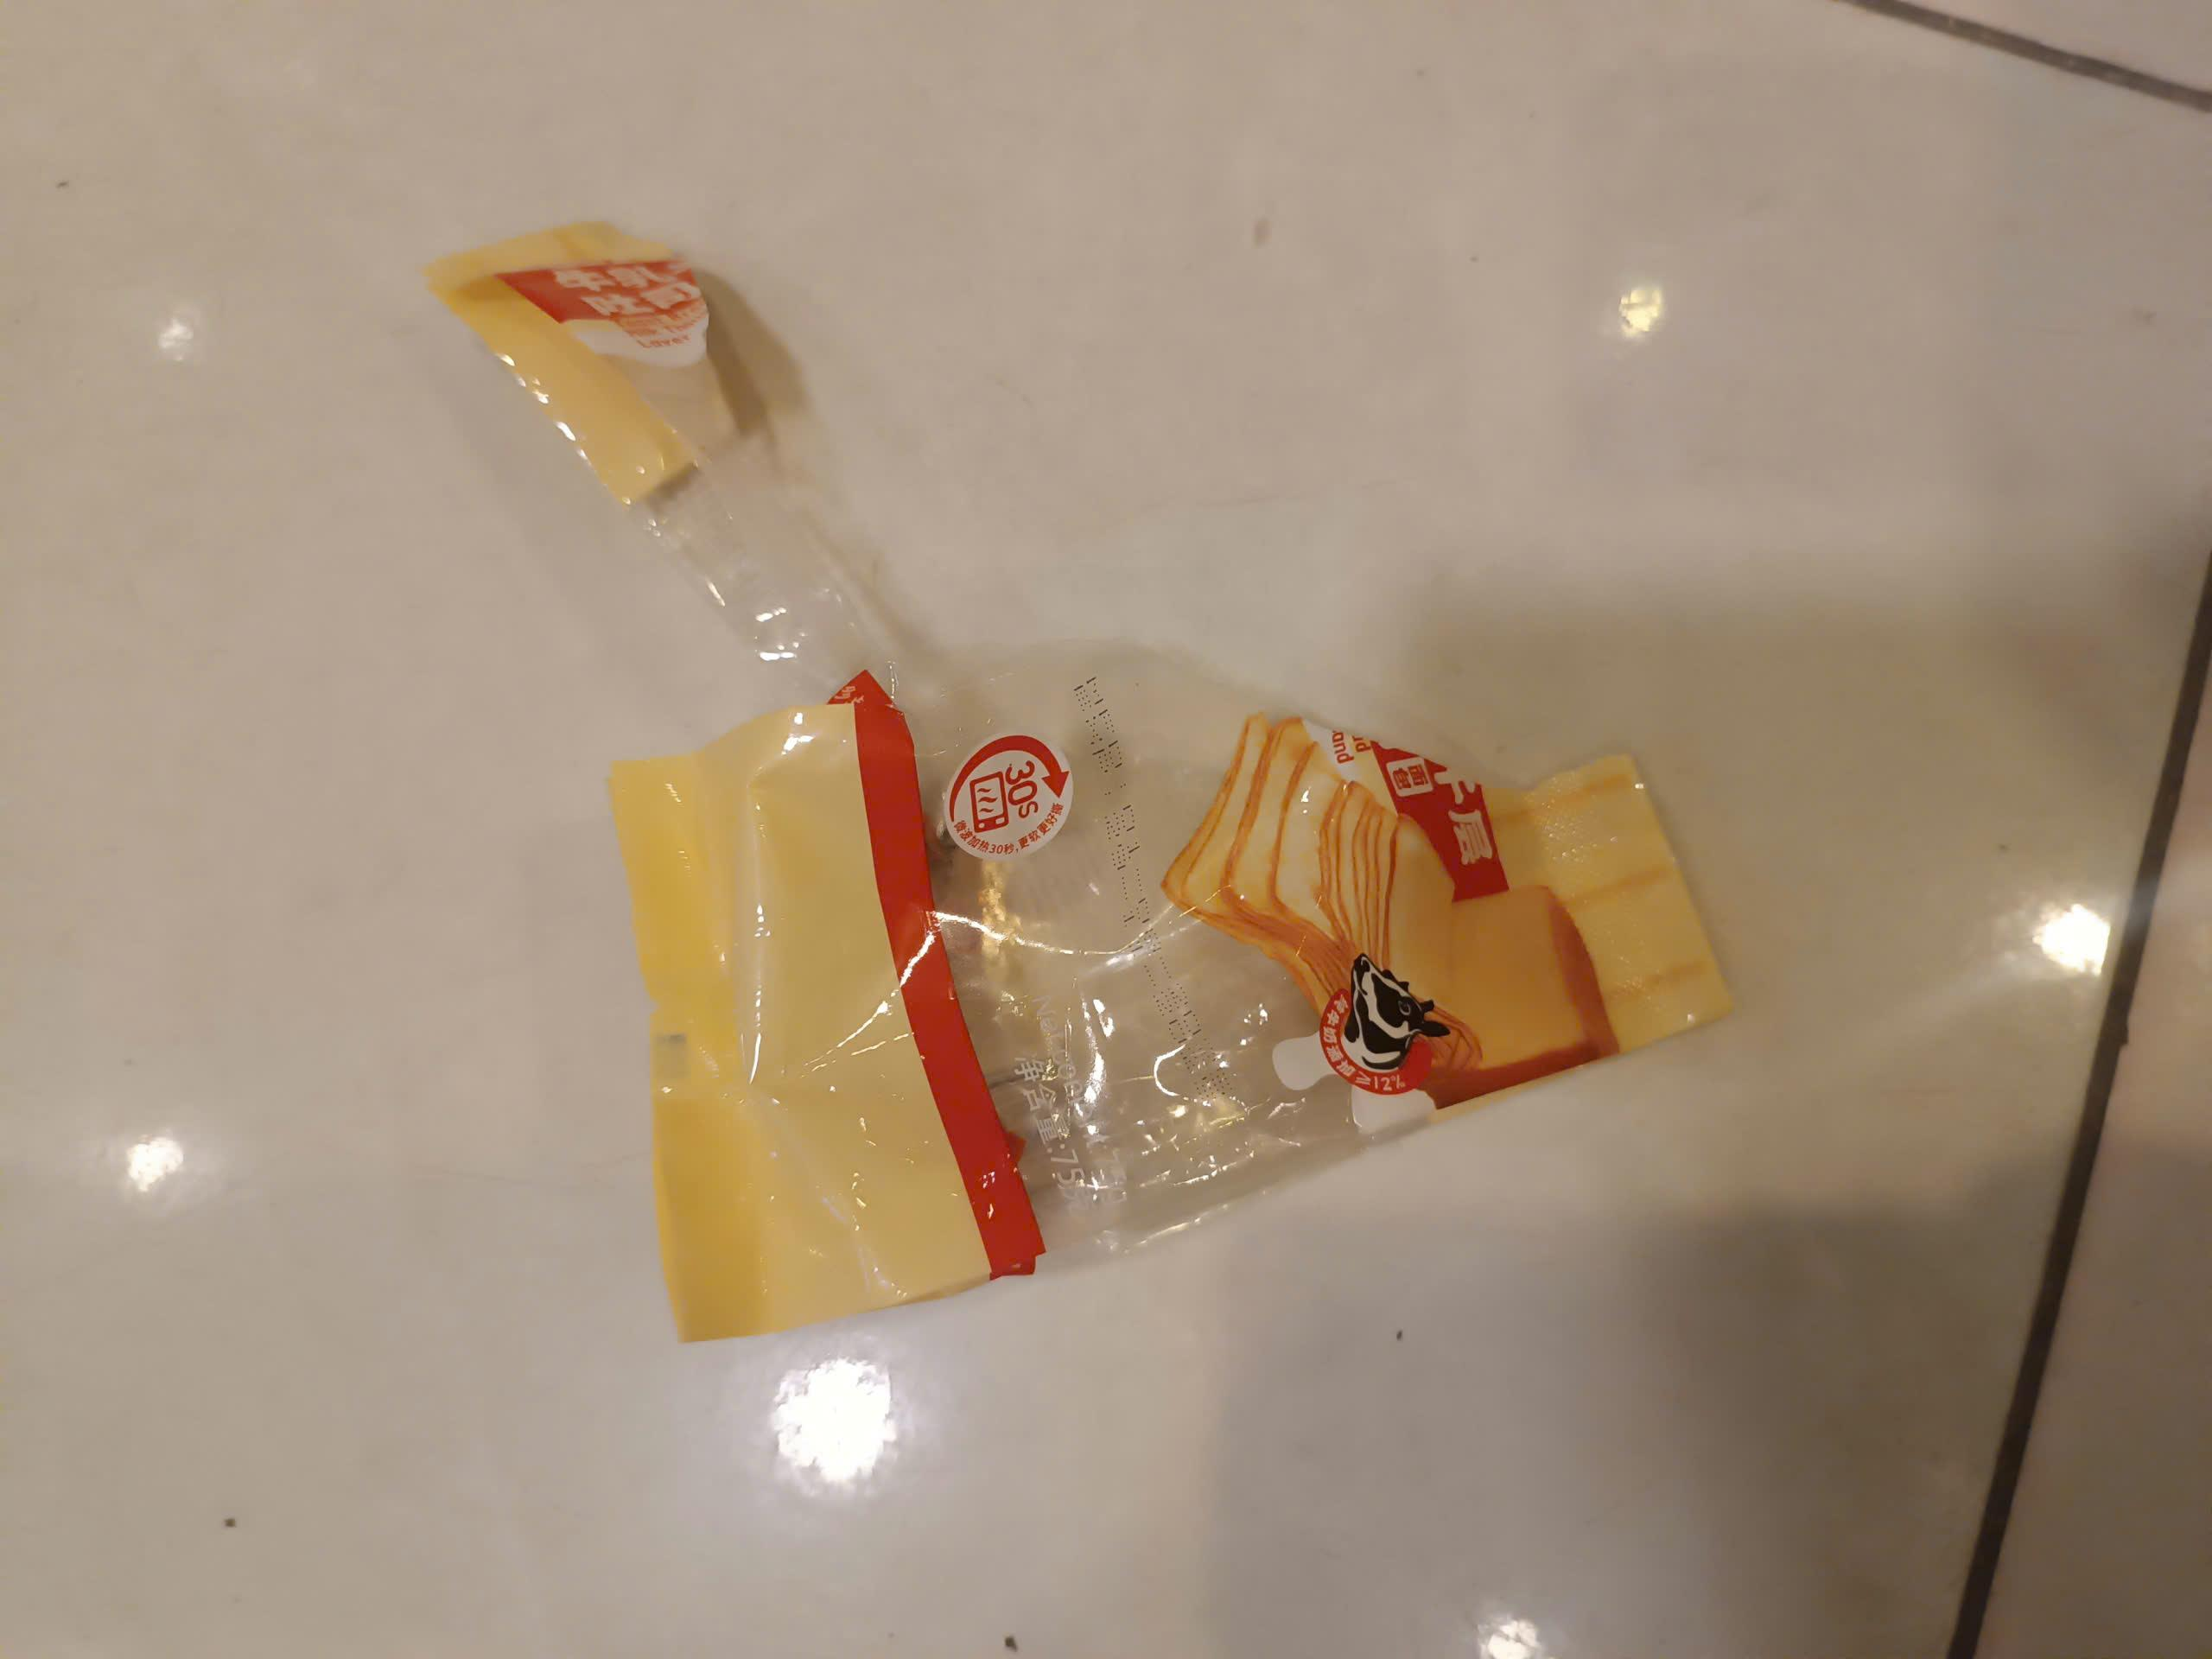Vo co: (608, 631, 1743, 1342)
